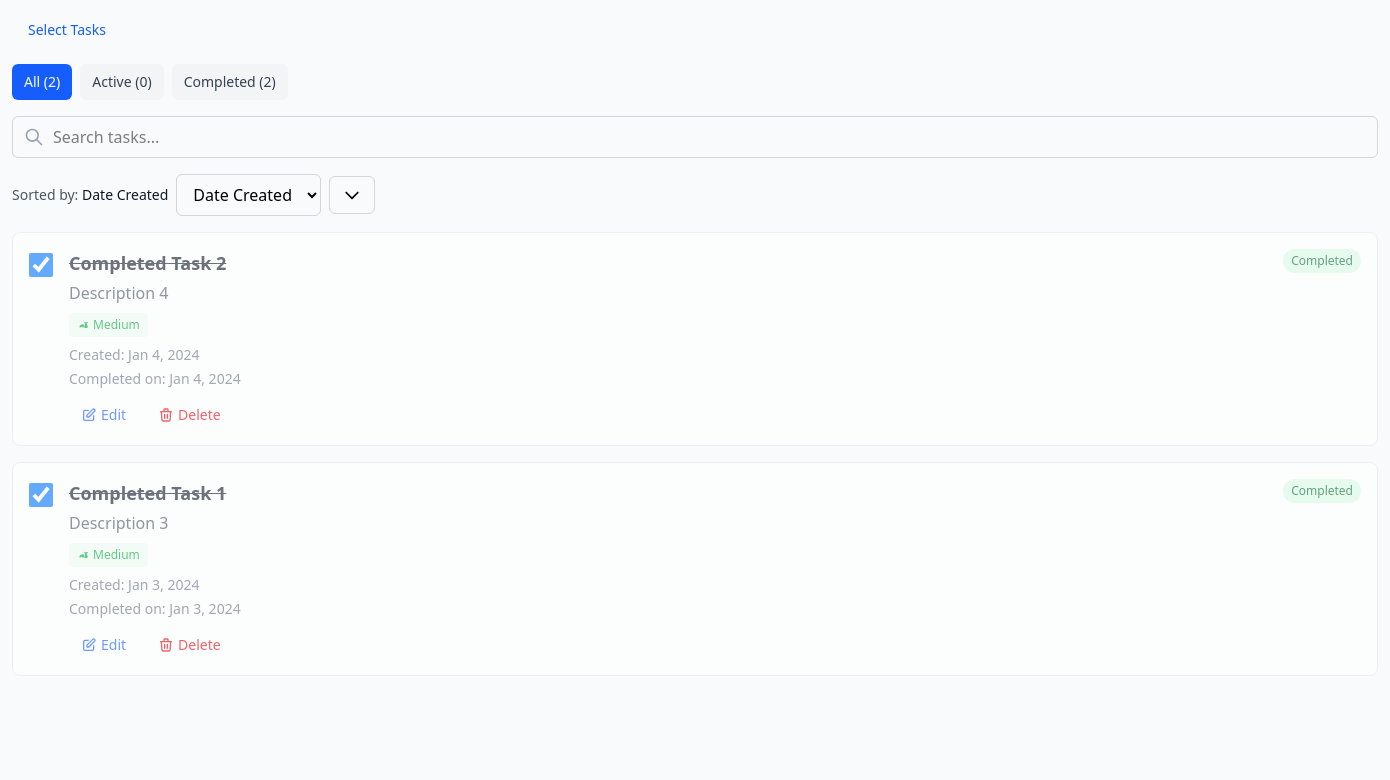
it: User Story 2.2: Filter Tasks UI › Empty States › should show "No active tasks" when Active filter has no results
Click the button "Active (0)" at (122, 82), box [80,64,164,100]
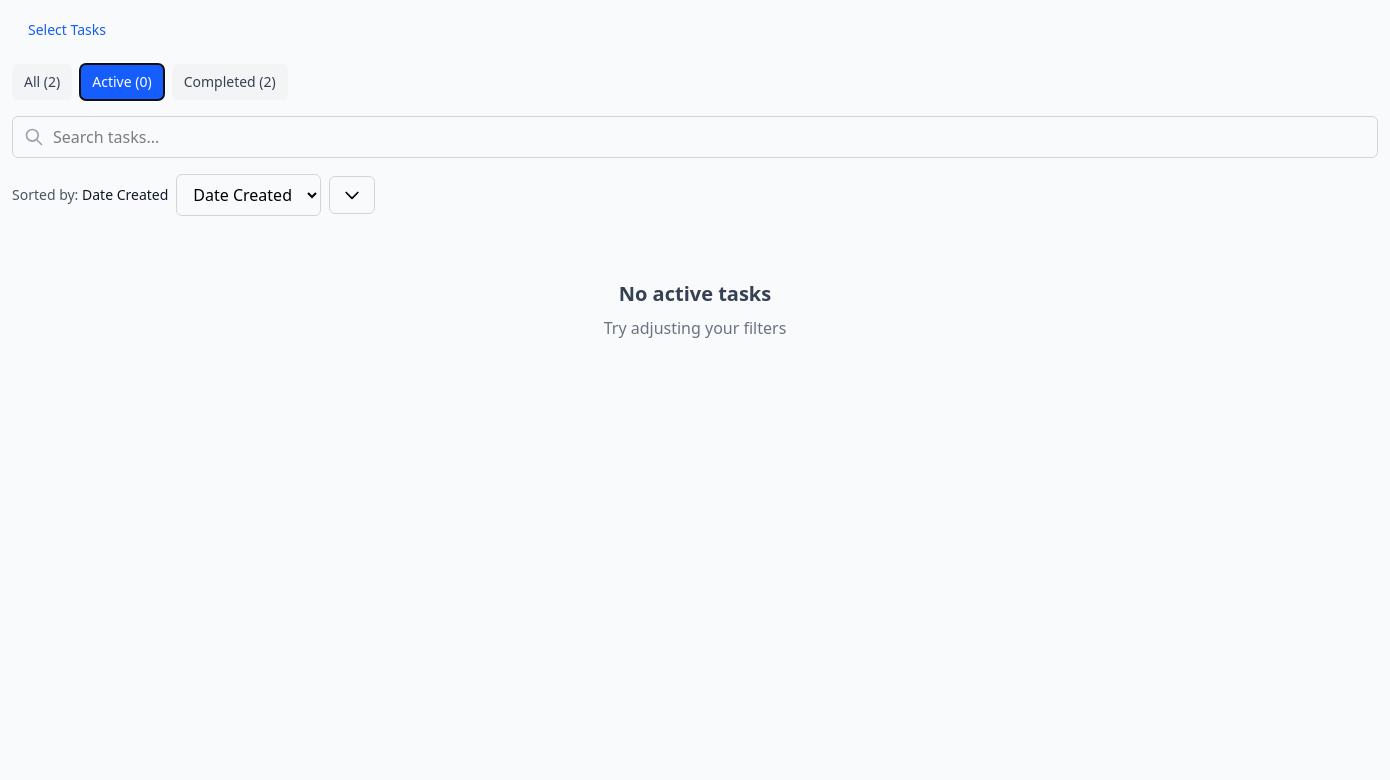
Expected: the heading "No active tasks" is shown, [619,280,771,307]
